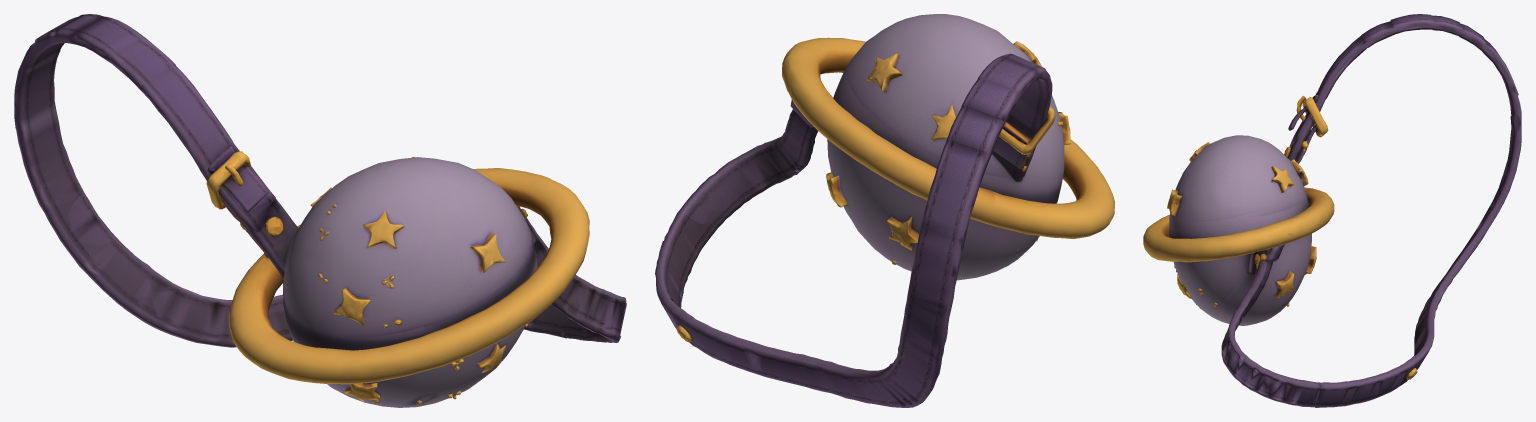
The model's file is mem_ac_planet.fbx.
The picture shows the model from 3 angles, left to right: view 1: azimuth 30°, elevation 25°; view 2: azimuth 150°, elevation 25°; view 3: azimuth 270°, elevation 25°; orthographic projection. The views are drawn at different scales.
Parts seen in each view (by area): view 1: tripo_node_de2684fa; view 2: tripo_node_de2684fa; view 3: tripo_node_de2684fa.
Part boxes in pixels (left/top/right/bottom): tripo_node_de2684fa: left=14, top=14, right=626, bottom=407; tripo_node_de2684fa: left=655, top=14, right=1114, bottom=407; tripo_node_de2684fa: left=1143, top=14, right=1521, bottom=407.
Bounding box in the file's own units: 0.9629 × 0.7559 × 0.998.
